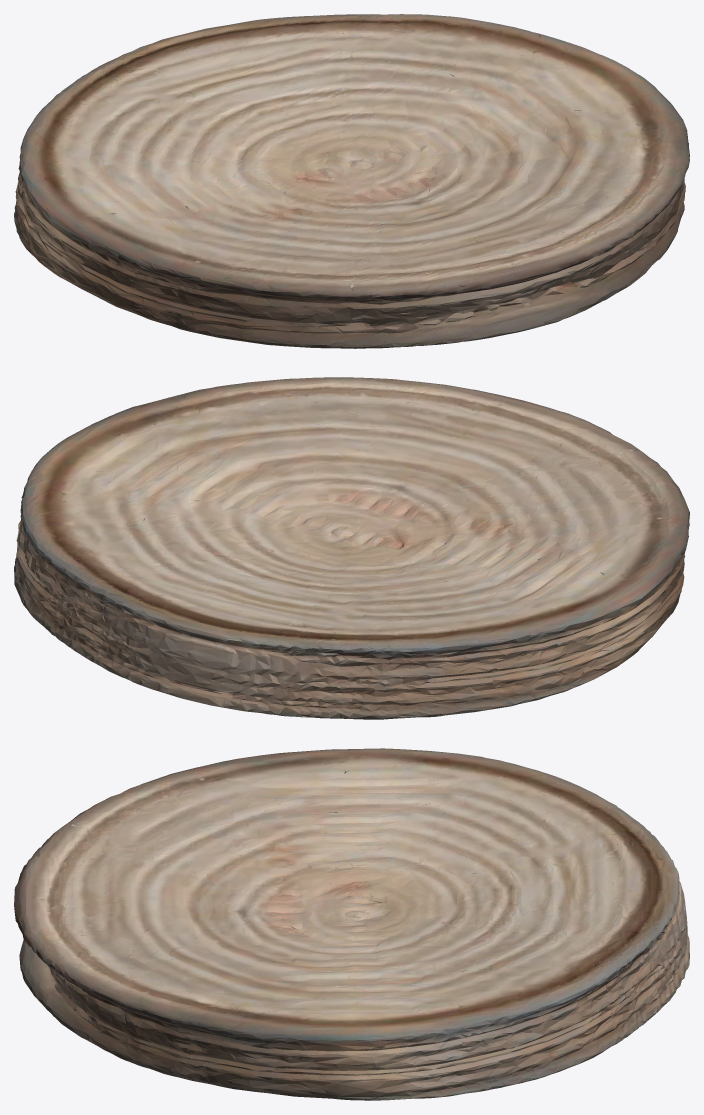
File: product-2-bamboo-coaster.glb
3 renders of one model, top to bottom at view 1: azimuth 30°, elevation 25°; view 2: azimuth 150°, elevation 25°; view 3: azimuth 270°, elevation 25°, orthographic. The views are drawn at different scales.
Parts seen in each view (by area): view 1: mesh.glb; view 2: mesh.glb; view 3: mesh.glb.
Part boxes in pixels (bbox=[...]): mesh.glb: bbox=[14, 14, 689, 348]; mesh.glb: bbox=[14, 377, 689, 719]; mesh.glb: bbox=[14, 748, 689, 1100].
Bounding box in the file's own units: 1.01 × 0.1209 × 0.982.
Materials: 1 (1 with a texture image).
